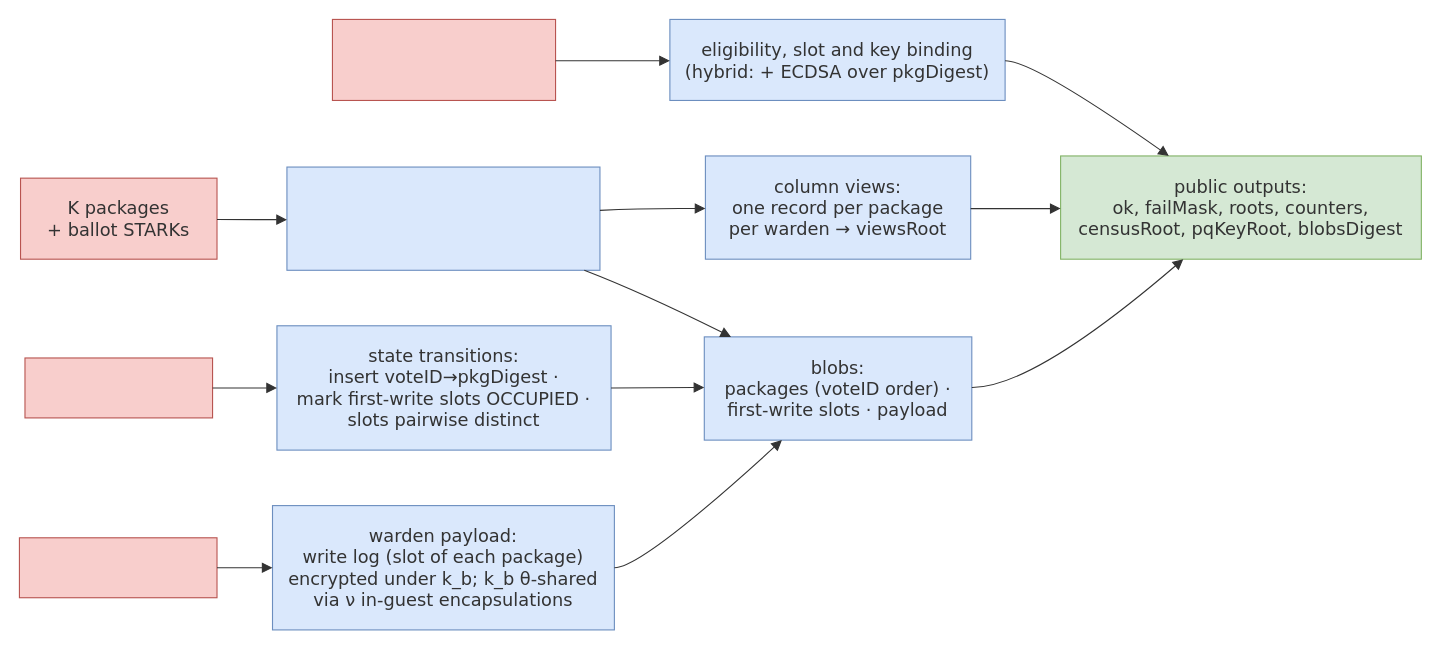
This 1441x649 diagram has some shape labels left out. The box of each missing label's shape, as (x1, y1, x2, y2) in pixels:
census path + PQ key-map lookup: (331, 18, 556, 100)
fresh batch seed: (18, 537, 217, 598)
state witnesses: (24, 357, 213, 418)
verify K ballot STARKs in-guest (Blake3 precompile, 2.5M steps each): (286, 166, 600, 270)
